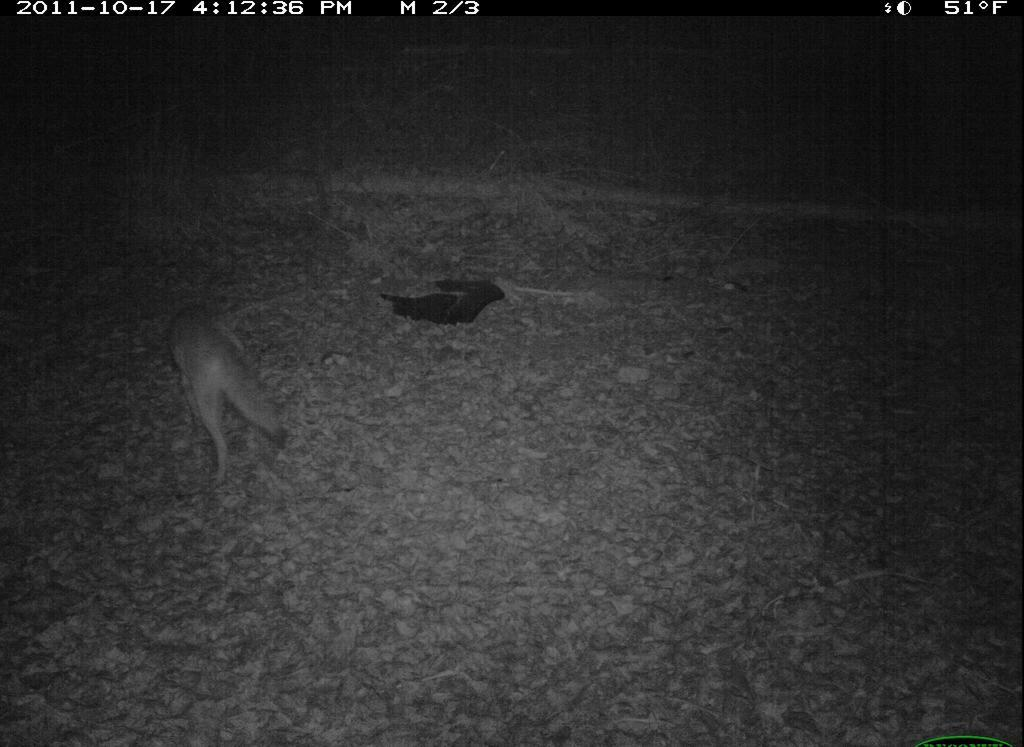coyote: (161, 305, 295, 489)
